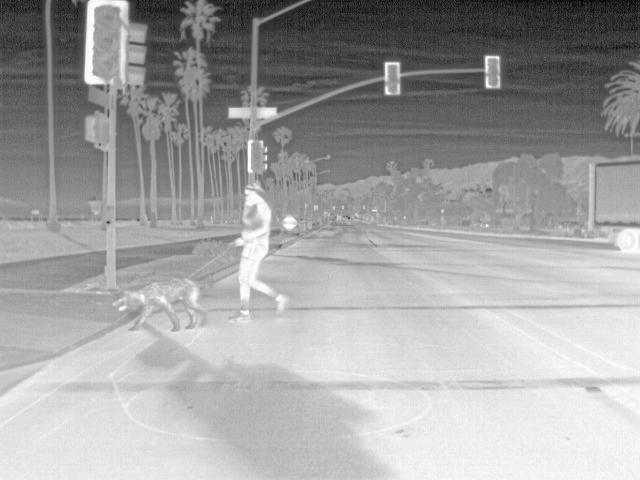dog: (112, 274, 211, 332)
person: (224, 182, 275, 325)
